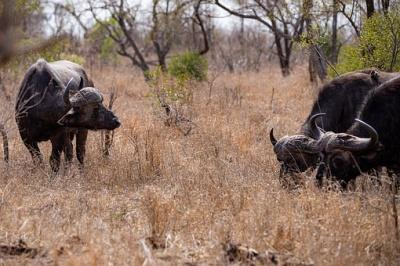buffalo: (0, 60, 400, 266)
